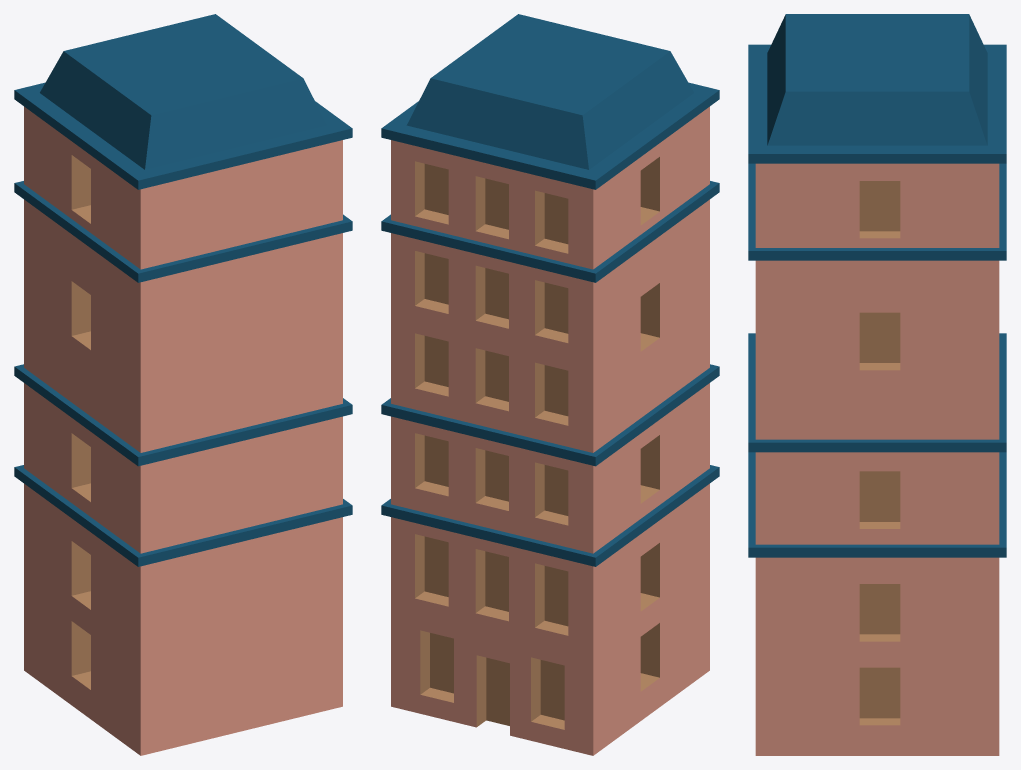
The model's file is building 5.fbx.
3 views of the same model, side by side, from view 1: azimuth 30°, elevation 25°; view 2: azimuth 150°, elevation 25°; view 3: azimuth 270°, elevation 25° (orthographic). The views are drawn at different scales.
Visible parts, largest first — view 1: Cube.387; view 2: Cube.387; view 3: Cube.387.
Part boxes in pixels (x1=…): Cube.387: x1=14, y1=14, x2=352, y2=755; Cube.387: x1=381, y1=14, x2=719, y2=755; Cube.387: x1=748, y1=14, x2=1006, y2=755.
Size of the model in its own units: 23.26 by 64.7 by 23.26.
Materials: 1 (1 with a texture image).
